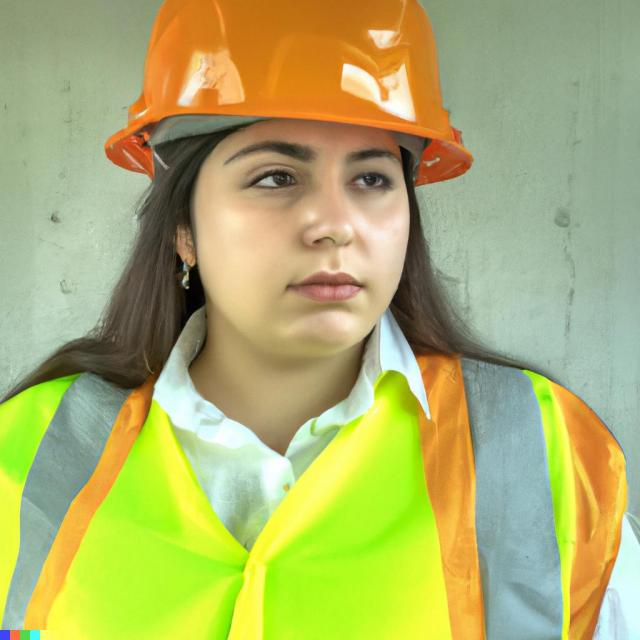Reflective-Jacket: (0, 357, 612, 633)
Safety-Helmet: (102, 4, 477, 175)
